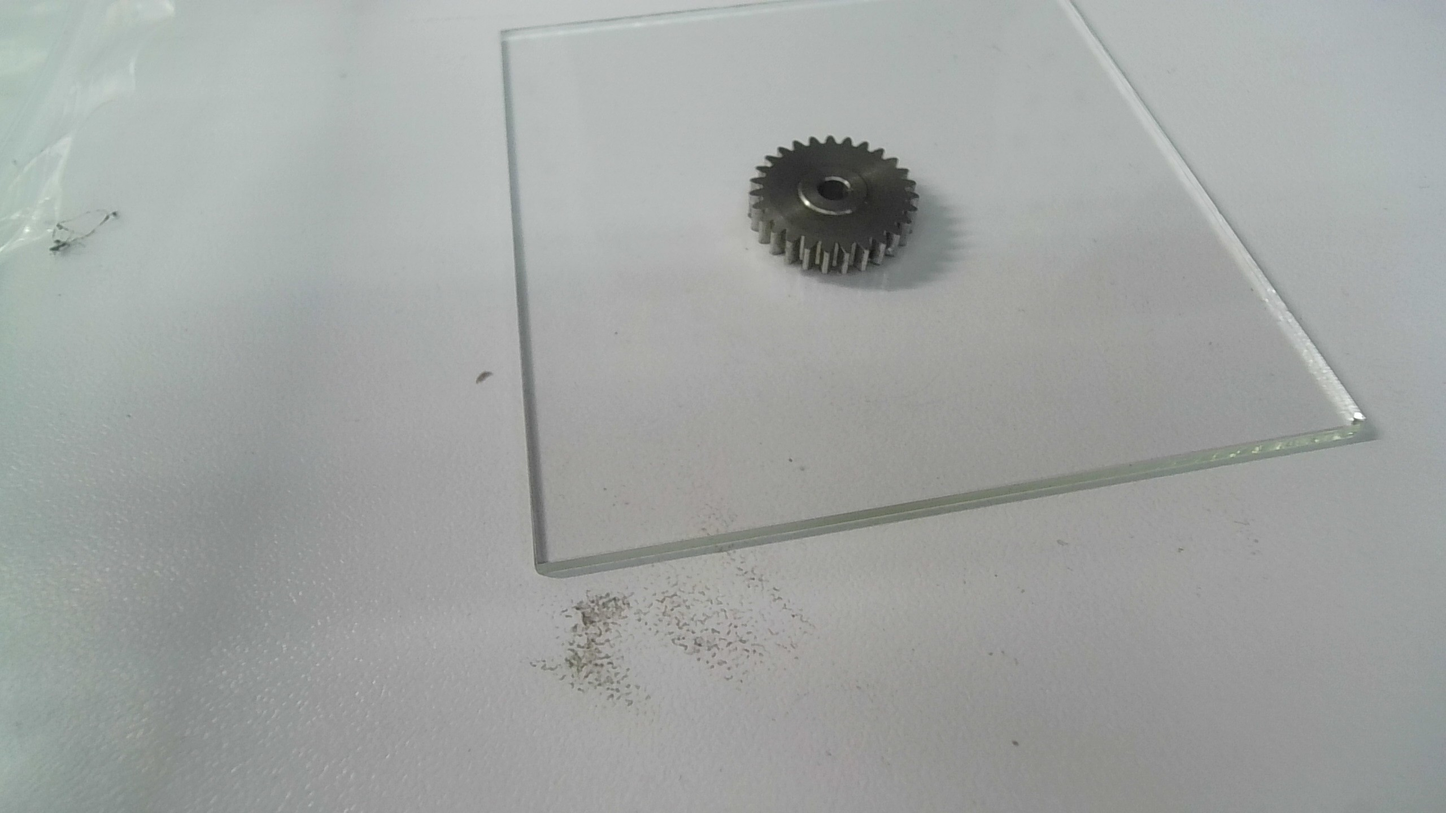gear: (743, 134, 925, 279)
